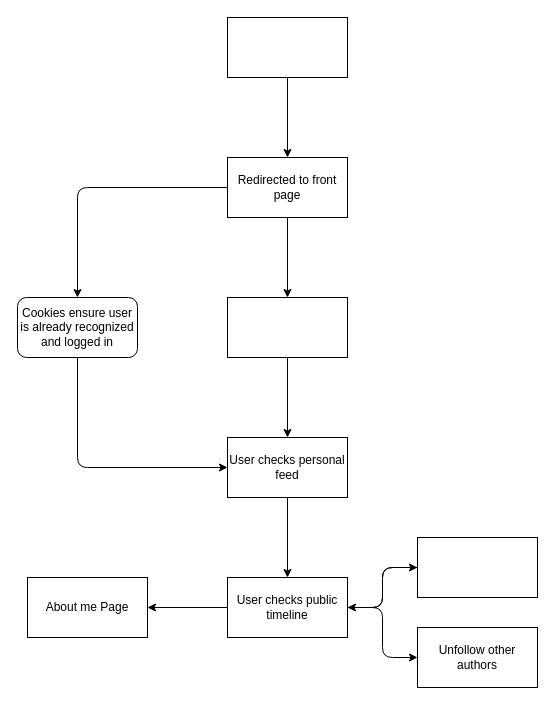
This 555x705 diagram has some shape labels left out. Here are the shapes that lost their labels. From the top down, the centre of each, then its label:
At [287,47]: "User enters Chrip! webpage".
At [287,327]: "User logs in".
At [477,567]: "Follow other authors".
